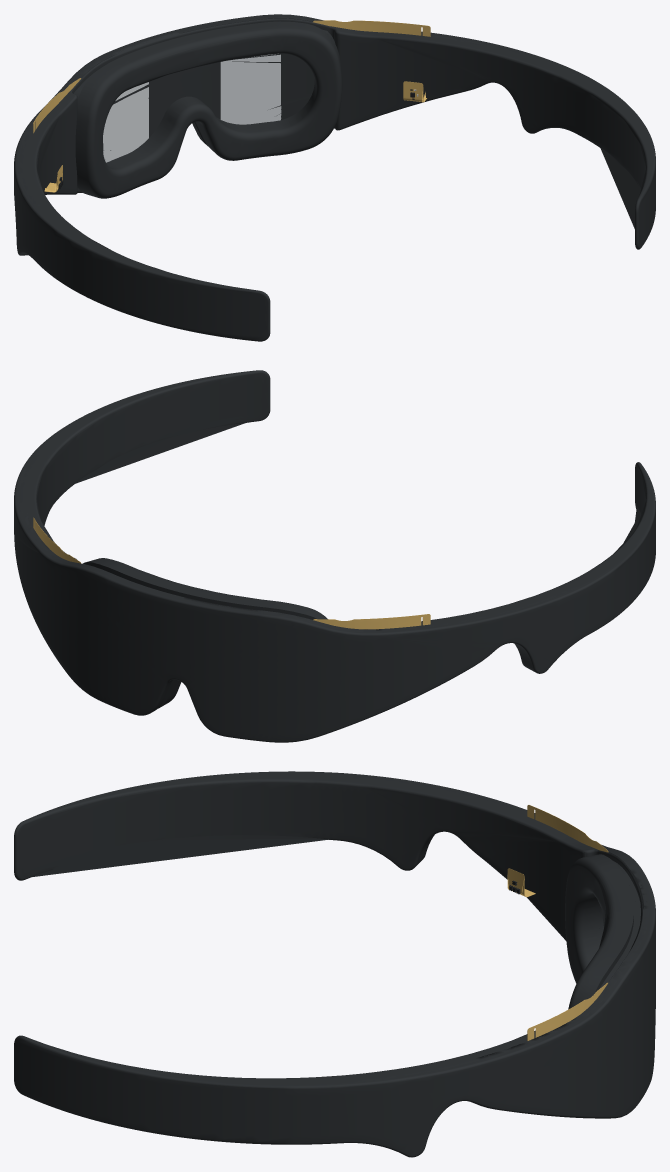
The model's file is mask.glb.
3 views of the same model, one above another, from view 1: azimuth 30°, elevation 25°; view 2: azimuth 150°, elevation 25°; view 3: azimuth 270°, elevation 25° (orthographic). The views are drawn at different scales.
Parts seen in each view (by area): view 1: shell, comfort, power, light, sensing, padding; view 2: shell, comfort, padding, sensing; view 3: shell, comfort, padding, sensing.
Boxes of the visible parts, x1,y1,x2,y2 form: shell: (14, 14, 655, 341); comfort: (75, 21, 342, 198); power: (103, 53, 281, 162); light: (102, 53, 314, 152); sensing: (33, 20, 430, 192); padding: (19, 15, 577, 255); shell: (14, 370, 655, 742); comfort: (83, 558, 327, 708); padding: (19, 455, 576, 710); sensing: (33, 517, 430, 629); shell: (14, 771, 655, 1157); comfort: (565, 854, 637, 1009); padding: (353, 775, 649, 1081); sensing: (507, 805, 608, 1040).
Size of the model in its own units: 0.2899 by 0.0628 by 0.2485.
